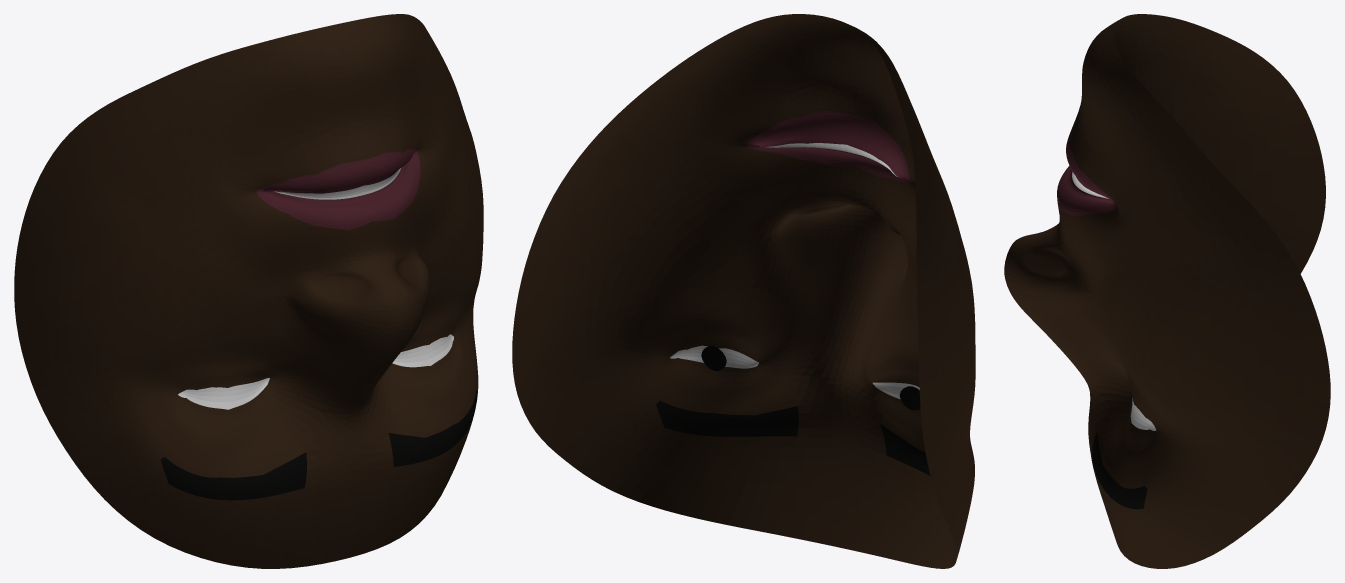
The model's file is VID-20250515-WA0003_f_01562.obj.
3 views of the same model, side by side, from view 1: azimuth 30°, elevation 25°; view 2: azimuth 150°, elevation 25°; view 3: azimuth 270°, elevation 25° (orthographic). The views are drawn at different scales.
Visible parts, largest first — view 1: face_mesh_subdivided; view 2: face_mesh_subdivided; view 3: face_mesh_subdivided.
Part boxes in pixels (x1=…): face_mesh_subdivided: x1=14, y1=14, x2=483, y2=568; face_mesh_subdivided: x1=512, y1=14, x2=975, y2=568; face_mesh_subdivided: x1=1004, y1=14, x2=1330, y2=568.
Bounding box in the file's own units: 0.4704 × 0.5769 × 0.3443.
